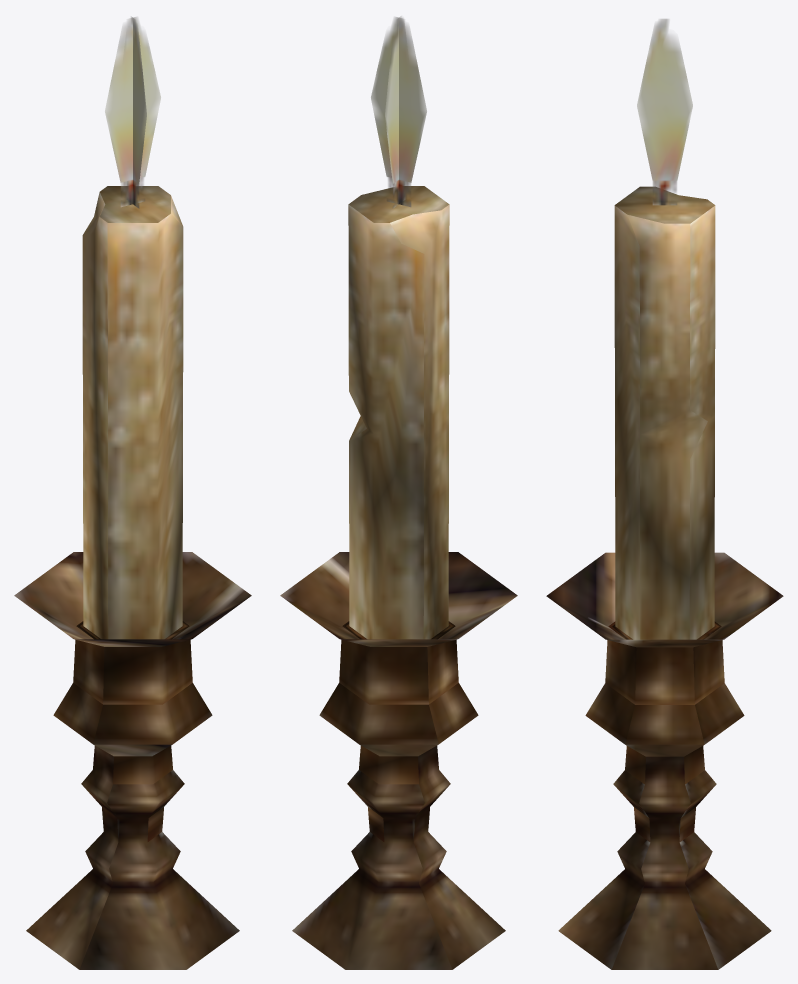
The model's file is psx_candle.glb.
3 views of the same model, side by side, from view 1: azimuth 30°, elevation 25°; view 2: azimuth 150°, elevation 25°; view 3: azimuth 270°, elevation 25° (orthographic).
Visible parts, largest first — view 1: PSX Candle; view 2: PSX Candle; view 3: PSX Candle.
Boxes of the visible parts, box(x1,y1,x2,y2) form: PSX Candle: box(14, 17, 251, 969); PSX Candle: box(280, 16, 517, 969); PSX Candle: box(546, 19, 783, 969).
Bounding box in the file's own units: 0.3142 × 1.54 × 0.3629.
1 material, 1 textured.
